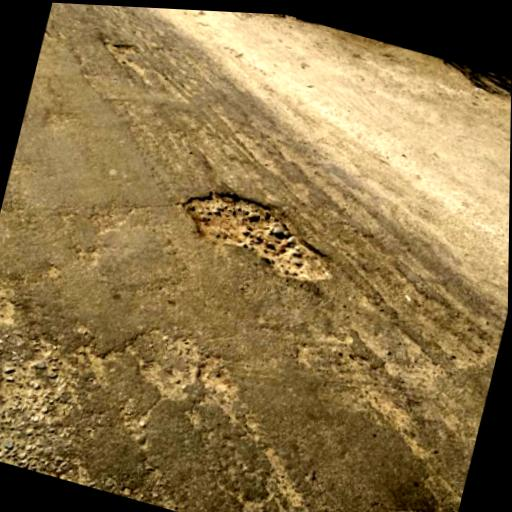pothole: (170, 178, 348, 290), (95, 31, 150, 76)
